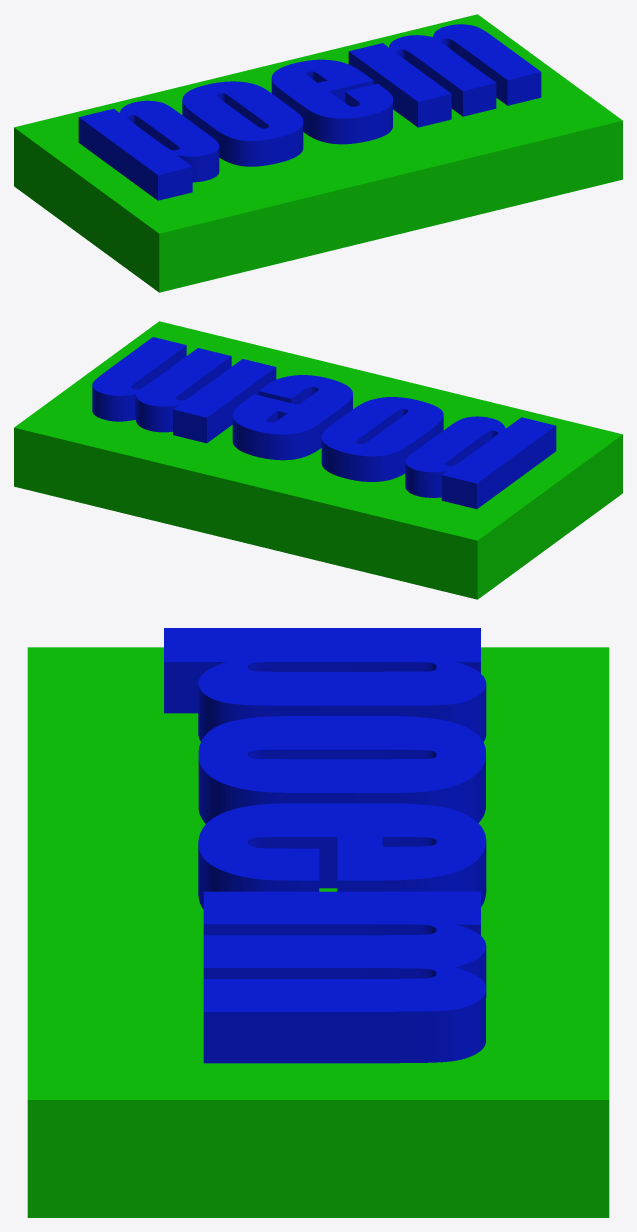
File: poem.glb
The picture shows the model from 3 angles, top to bottom: view 1: azimuth 30°, elevation 25°; view 2: azimuth 150°, elevation 25°; view 3: azimuth 270°, elevation 25°; orthographic projection. The views are drawn at different scales.
Visible parts, largest first — view 1: Cube, Curve; view 2: Cube, Curve; view 3: Cube, Curve.
Part boxes in pixels (box(x1,y1,x2,y2)): Cube: box(14, 14, 622, 292); Curve: box(78, 24, 541, 200); Cube: box(14, 321, 622, 599); Curve: box(92, 337, 556, 509); Cube: box(27, 647, 609, 1217); Curve: box(164, 628, 486, 1063).
Bounding box in the file's own units: 16.45 × 2.87 × 8.93.
